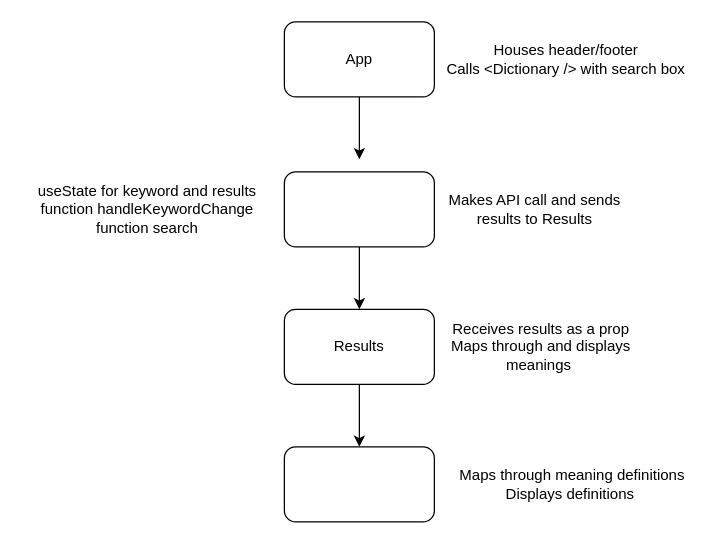
This 718x544 diagram has some shape labels left out. Each missing label, with the centre of its shape:
"Dictionary" goes at pixel 358 209.
"Meaning" goes at pixel 358 484.
